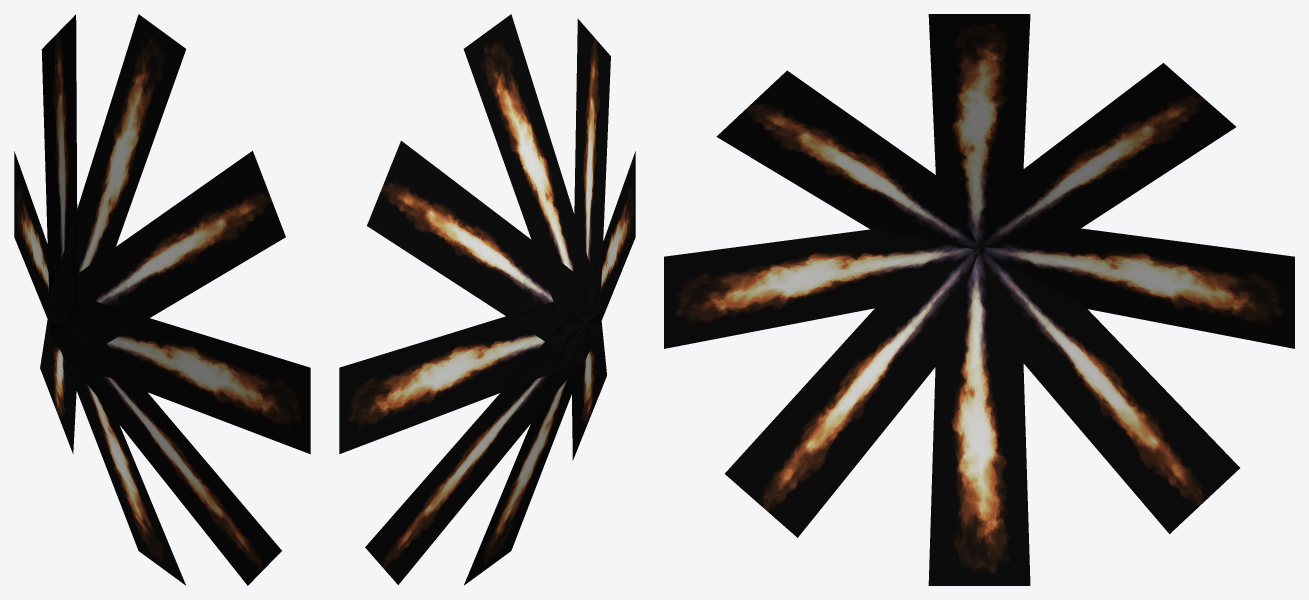
Rendered from muzzleFlashCono2.fbx.
The picture shows the model from 3 angles, left to right: view 1: azimuth 30°, elevation 25°; view 2: azimuth 150°, elevation 25°; view 3: azimuth 270°, elevation 25°; orthographic projection. The views are drawn at different scales.
Visible parts, largest first — view 1: Plano.001; view 2: Plano.001; view 3: Plano.001.
Boxes of the visible parts, box(x1,y1,x2,y2) form: Plano.001: box(14, 14, 310, 585); Plano.001: box(339, 14, 635, 585); Plano.001: box(664, 14, 1294, 585).
Size of the model in its own units: 96.17 by 504 by 504.
1 material, 1 textured.
